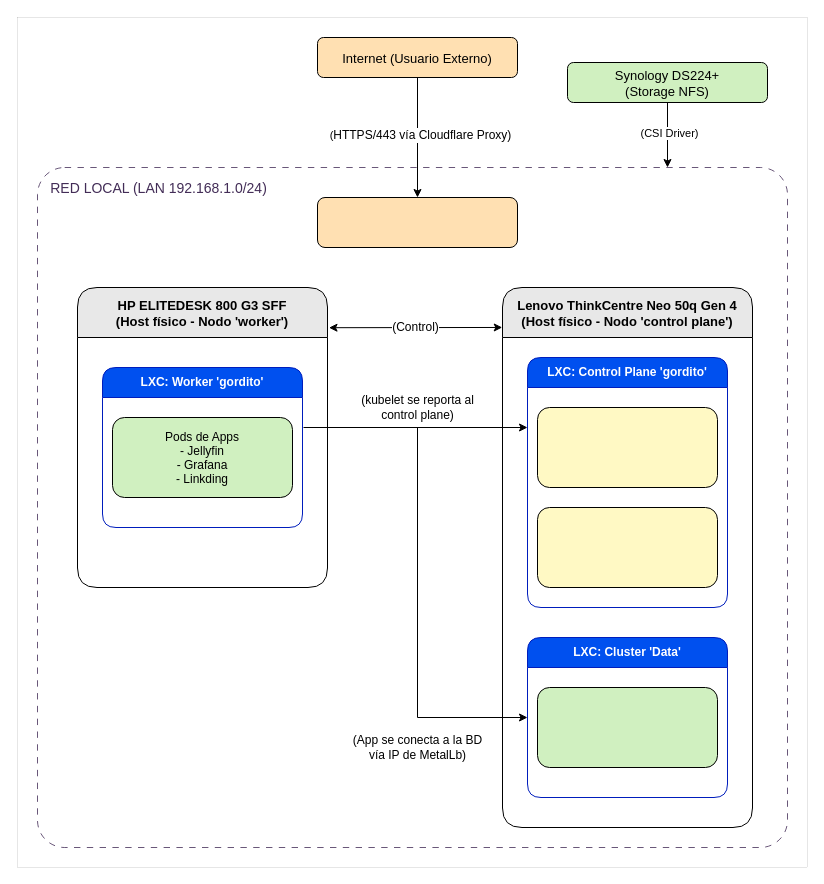
The diagram is 824 pixels wide and 884 high, and some of its shapes have lost their labels. Each missing label, with the centre of its shape:
Bases de datos - PostgreSQL (CNPG) - MetalLB: (x=627, y=727)
Control Plane - API Server - Flux CD: (x=627, y=447)
Ingress Services - NGINX - MetalLB - Cert-manager: (x=627, y=547)
Router (Port Forwarding): (x=417, y=222)
